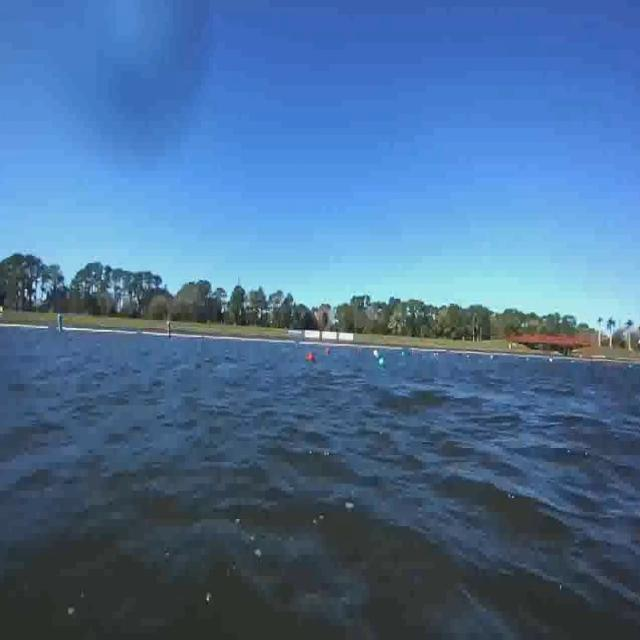red-buoy: (306, 352, 312, 362)
